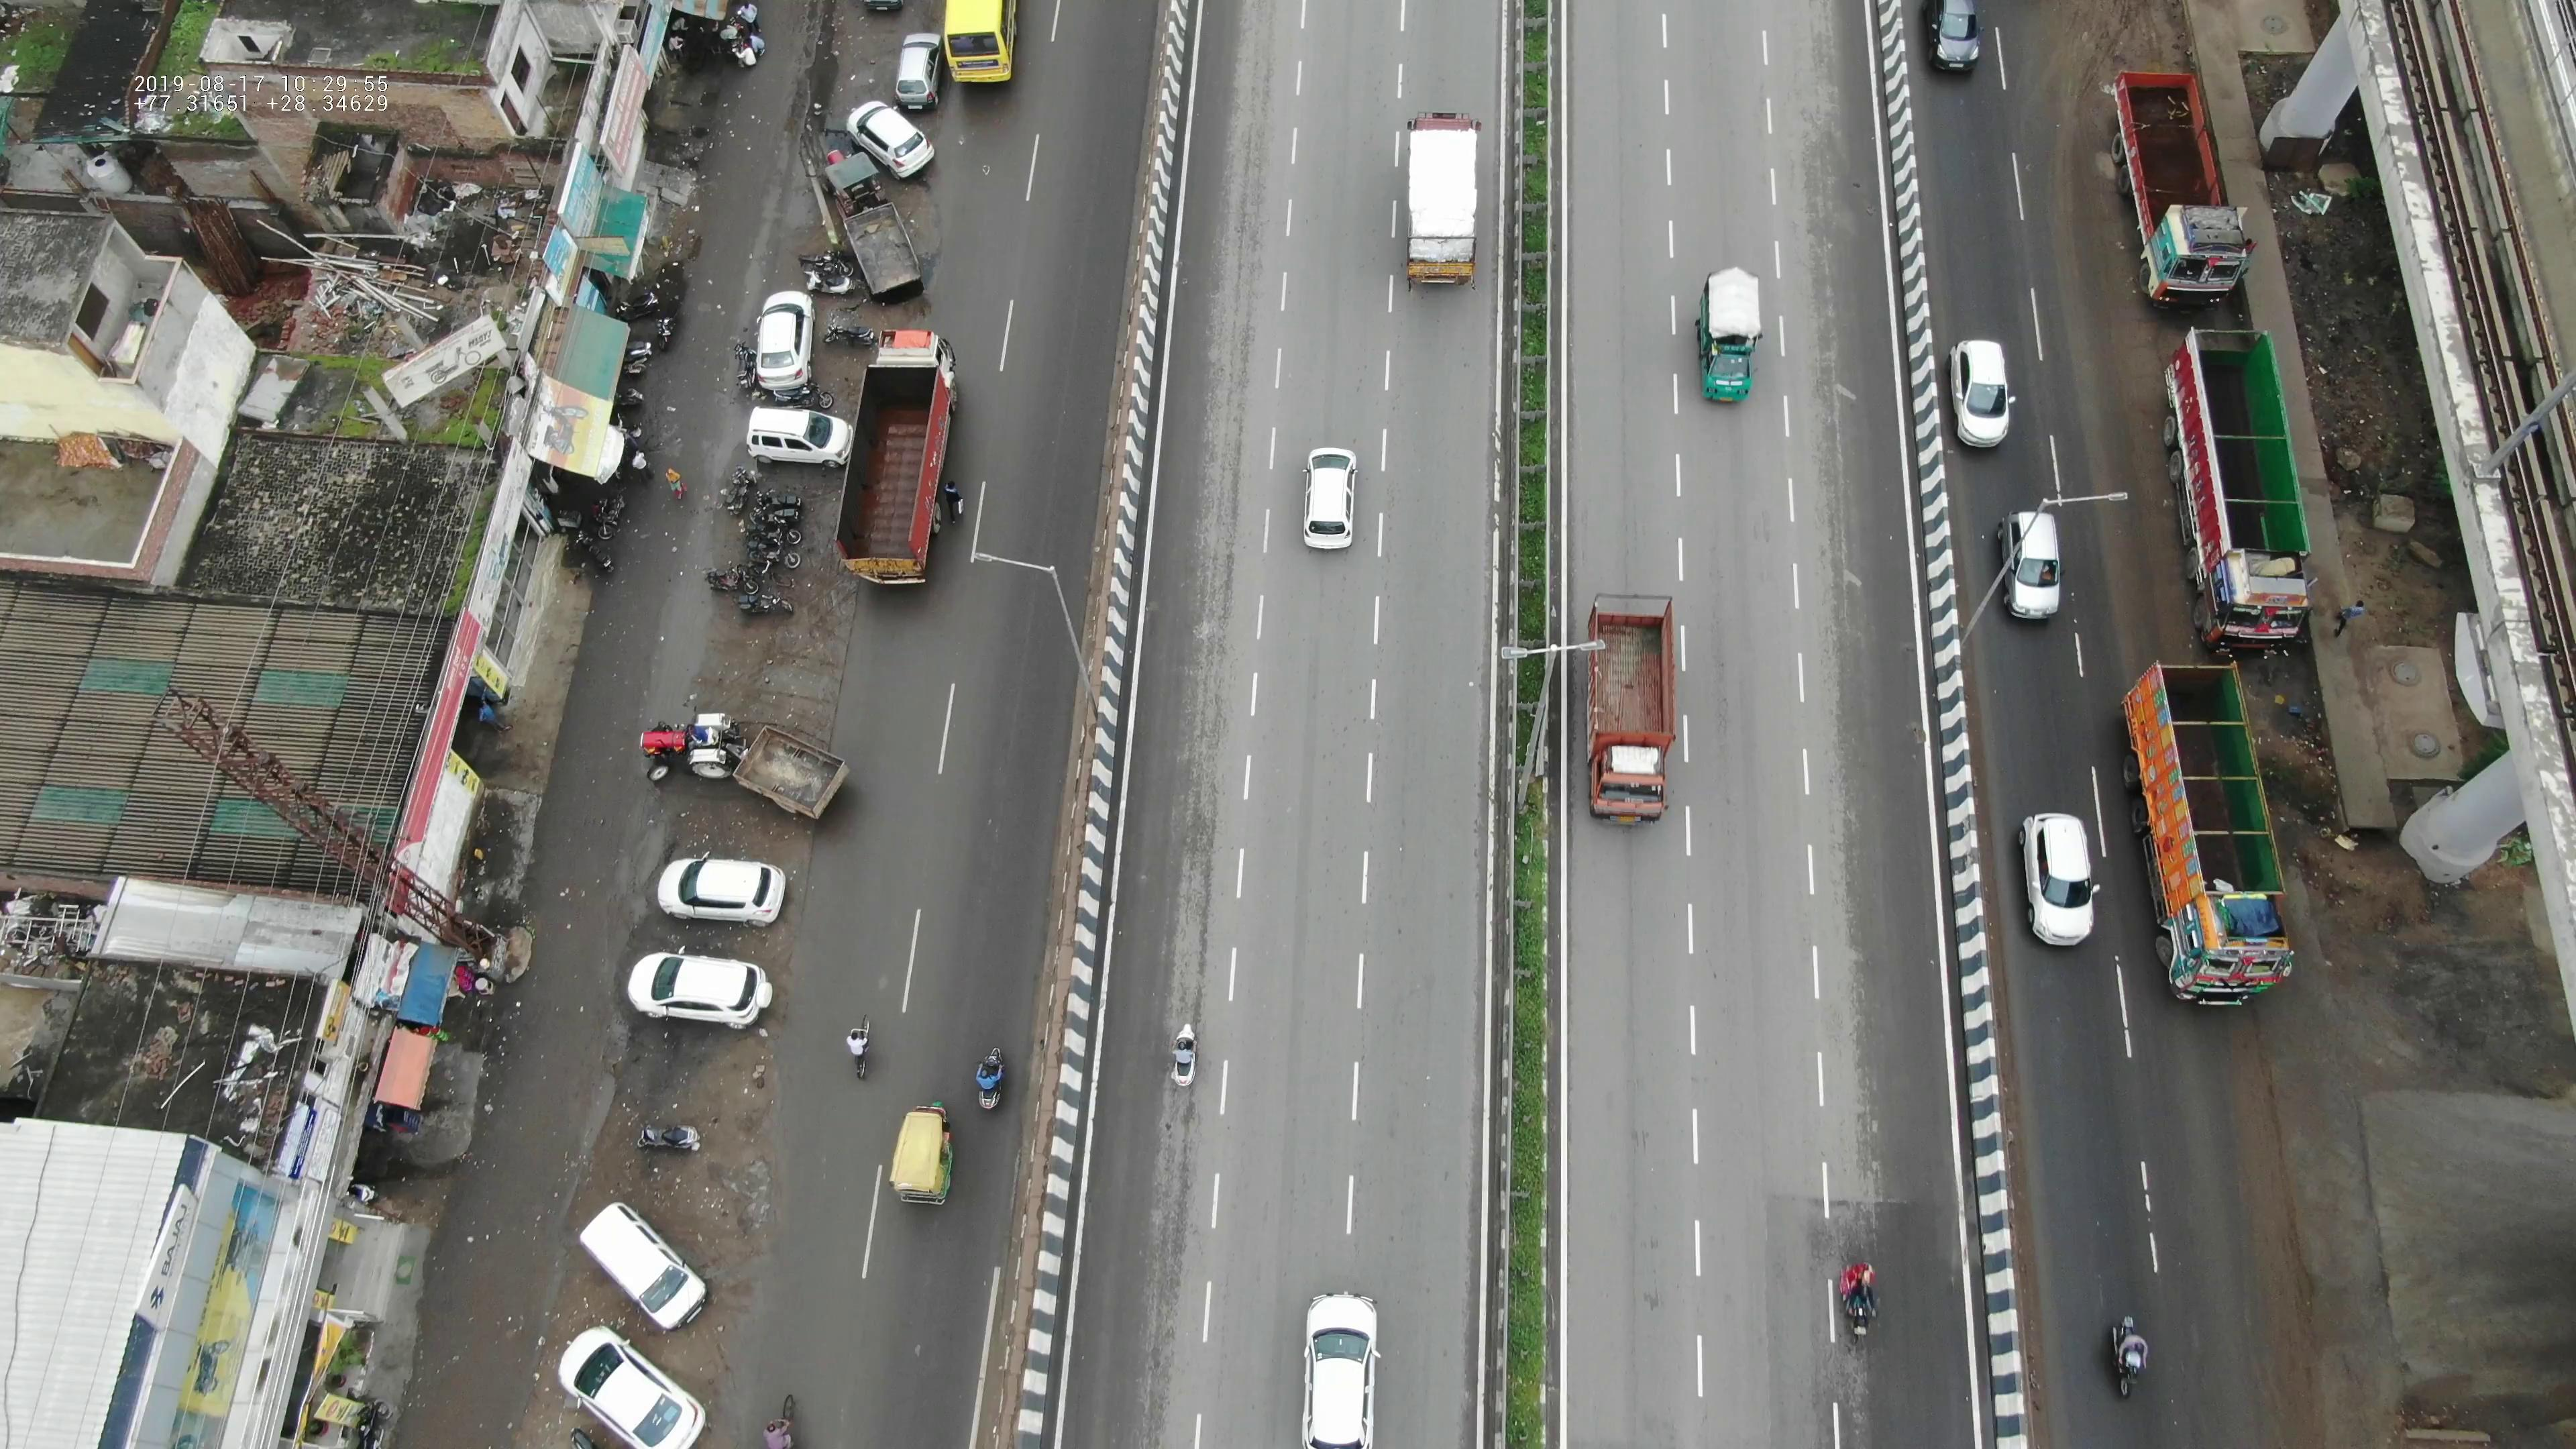Muddy_road: (2217, 1053, 2302, 1261), (2250, 1284, 2323, 1445)
